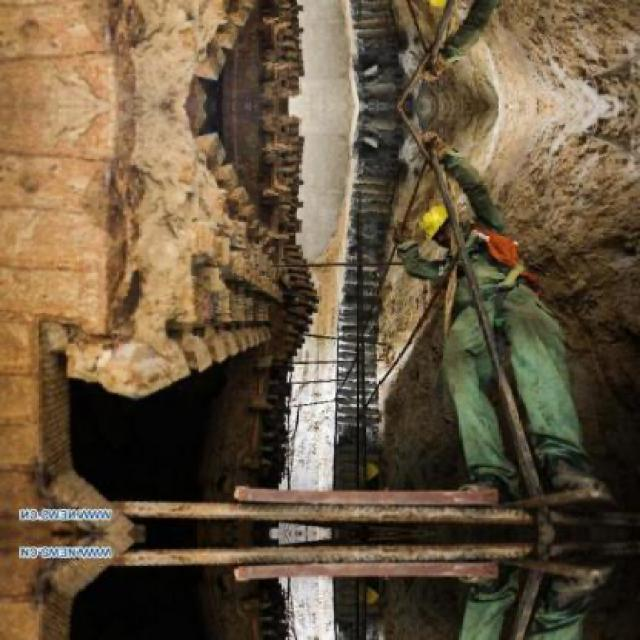helmet: (417, 204, 454, 248), (415, 0, 454, 11)
